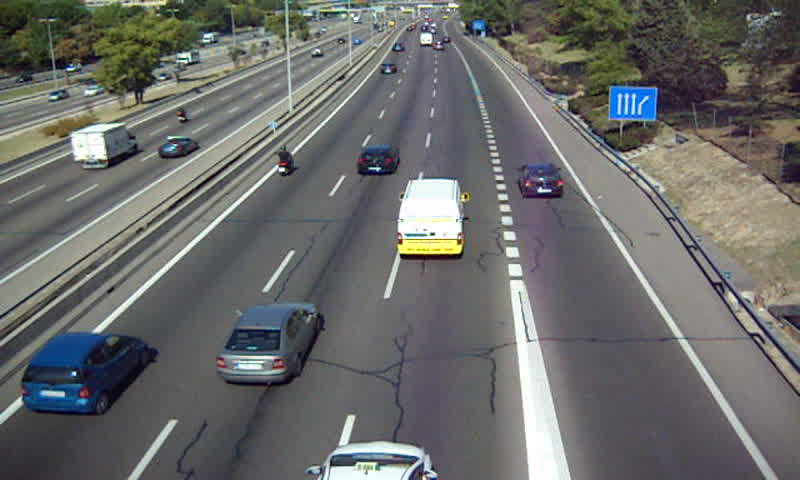car: (20, 332, 150, 415), (216, 304, 321, 382), (517, 165, 562, 197), (358, 146, 400, 174), (378, 62, 398, 76)
motorcycle: (274, 146, 293, 178)
van: (397, 179, 463, 256)
